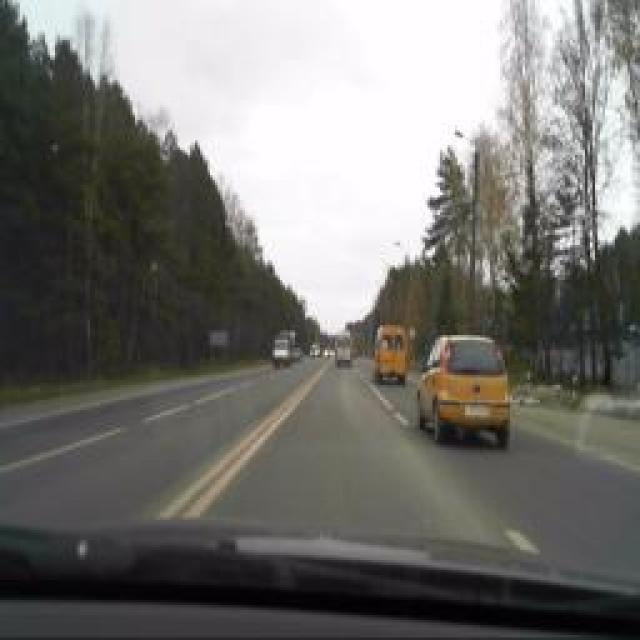sign: (406, 325, 416, 340)
